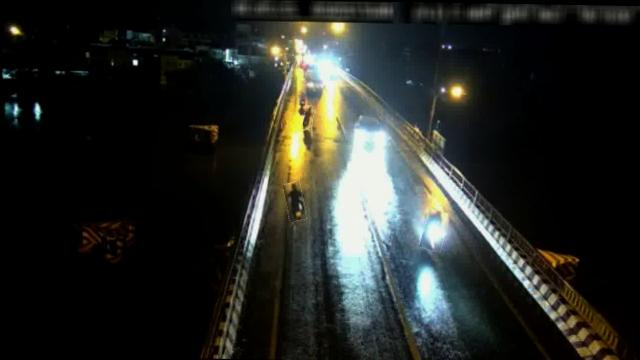Bike: (422, 209, 448, 251), (284, 182, 306, 221), (304, 106, 314, 130)
